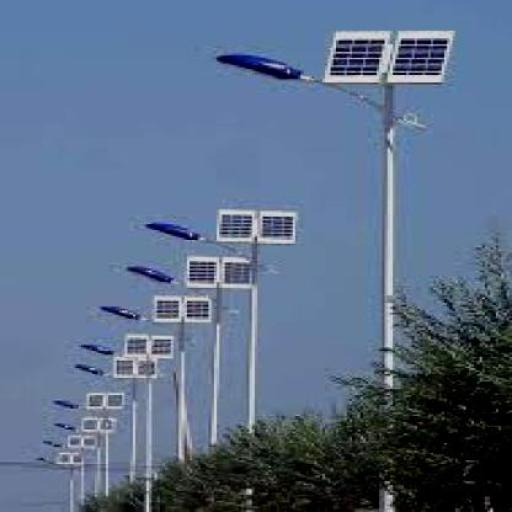street light: (214, 52, 407, 510), (144, 223, 260, 510), (95, 303, 192, 500), (128, 261, 190, 505)
